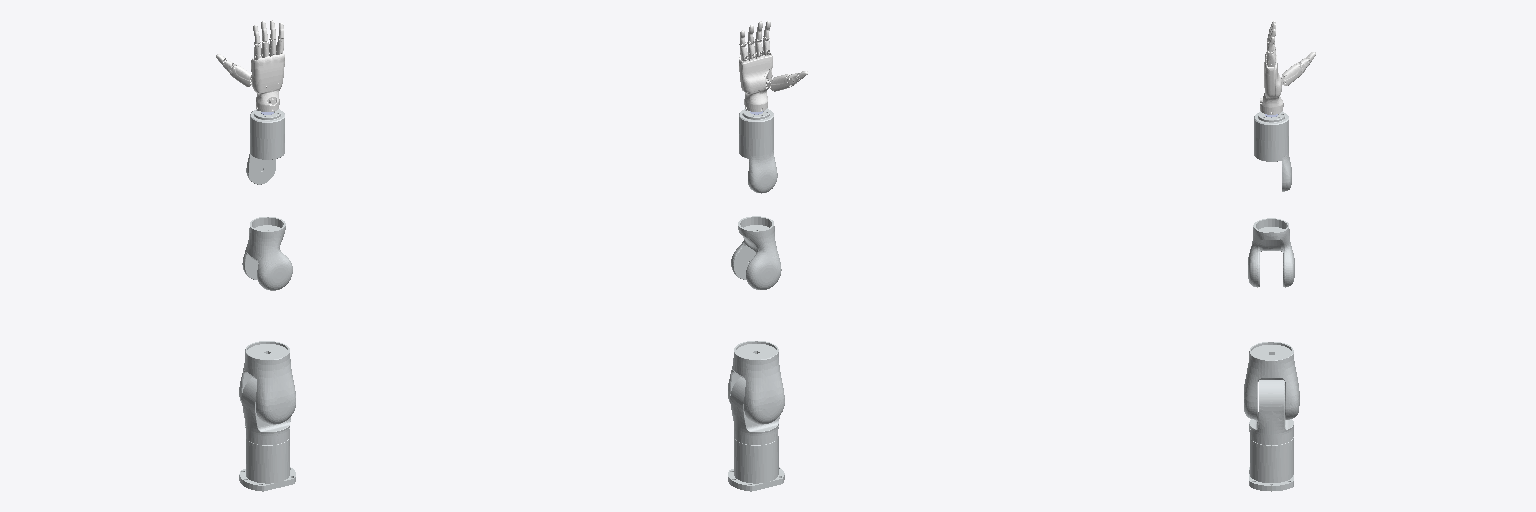
--- Facts derived from the render (not from the file) ---
The picture shows the robot from 3 angles, left to right: view 1: azimuth 30°, elevation 25°; view 2: azimuth 210°, elevation 25°; view 3: azimuth 270°, elevation 25°; orthographic projection.
Model urdf with 21 links and 20 joints (18 revolute, 2 fixed), rooted at base_link_jaka_right, posed all joints at 0 but 1 set to mid-range because 0 is outside their limits (R_thumb_MCP_joint1 = 0.85).
Links seen in each view (by area): view 1: r2_right, r4_right, r6_right, base_link_jaka_right, R_hand_base_link, r1_right; view 2: r2_right, r4_right, r6_right, base_link_jaka_right, R_hand_base_link, r1_right; view 3: r2_right, r1_right, base_link_jaka_right, r4_right, r6_right, R_hand_base_link.
Boxes of the visible links, box(x1,y1,x2,y2) form: r2_right: box(239, 341, 295, 424); r4_right: box(242, 217, 292, 290); r6_right: box(246, 109, 284, 184); base_link_jaka_right: box(239, 438, 295, 491); R_hand_base_link: box(251, 54, 284, 111); r1_right: box(242, 377, 290, 444); r2_right: box(728, 341, 784, 424); r4_right: box(731, 216, 781, 289); r6_right: box(739, 108, 777, 193); base_link_jaka_right: box(728, 436, 784, 491); R_hand_base_link: box(739, 50, 772, 111); r1_right: box(730, 377, 779, 444); r2_right: box(1244, 342, 1299, 419); r1_right: box(1249, 380, 1293, 445); base_link_jaka_right: box(1249, 437, 1293, 491); r4_right: box(1248, 218, 1294, 287); r6_right: box(1254, 111, 1291, 191); R_hand_base_link: box(1260, 52, 1283, 114).
Size in the robot's own frame: 0.1455 by 0.1679 by 1.16 metres.
19 mesh visuals loaded from 21 distinct referenced files (19 binary STL); not drawn: 2 (reference not matched to a file when rendering).

robot.urdf — urdf:
<?xml version="1.0" encoding="utf-8"?>
<!-- This URDF was automatically created by SolidWorks to URDF Exporter! Originally created by Stephen Brawner ([email redacted]) 
     Commit Version: 1.6.0-4-g7f85cfe  Build Version: 1.6.7995.38578
     For more information, please see http://wiki.ros.org/sw_urdf_exporter -->
     

    
<robot
  name="urdf">
  <link
    name="base_link_jaka_right">
    <inertial>
      <origin
        xyz="-9.29811783123569E-15 -2.55351295663786E-14 0.0527140176534378"
        rpy="0 0 0" />
      <mass
        value="2.6517937627355" />
      <inertia
        ixx="0.00459869882416778"
        ixy="1.85752629607686E-17"
        ixz="-2.28219532296407E-15"
        iyy="0.00475862705157852"
        iyz="2.22748606625393E-15"
        izz="0.00370665473180569" />
    </inertial>
    <visual>
      <origin
        xyz="0 0 0"
        rpy="0 0 0" />
      <geometry>
        <mesh
          filename="package://robot_description/meshes/base_link.STL" />
      </geometry>
      <material
        name="">
        <color
          rgba="0.898039215686275 0.917647058823529 0.929411764705882 1" />
      </material>
    </visual>
    <collision>
      <origin
        xyz="0 0 0"
        rpy="0 0 0" />
      <geometry>
        <mesh
          filename="package://robot_description/meshes/base_link.STL" />
      </geometry>
    </collision>
  </link>
  <link
    name="r1_right">
    <inertial>
      <origin
        xyz="-2.45882333965719E-06 -3.29465040194155E-07 0.164278748235391"
        rpy="0 0 0" />
      <mass
        value="1.49114512916891" />
      <inertia
        ixx="0.00305995014021982"
        ixy="1.23264704419555E-07"
        ixz="4.84189826771435E-08"
        iyy="0.00378498860937016"
        iyz="-4.00260806320922E-08"
        izz="0.00212611420638678" />
    </inertial>
    <visual>
      <origin
        xyz="0 0 0"
        rpy="0 0 0" />
      <geometry>
        <mesh
          filename="package://robot_description/meshes/r1.STL" />
      </geometry>
      <material
        name="">
        <color
          rgba="0.898039215686275 0.917647058823529 0.929411764705882 1" />
      </material>
    </visual>
    <collision>
      <origin
        xyz="0 0 0"
        rpy="0 0 0" />
      <geometry>
        <mesh
          filename="package://robot_description/meshes/r1.STL" />
      </geometry>
    </collision>
  </link>
  <joint
    name="r-j1_right"
    type="revolute">
    <origin
      xyz="0 0 0"
      rpy="0 0 0" />
    <parent
      link="base_link_jaka_right" />
    <child
      link="r1_right" />
    <axis
      xyz="0 0 1" />
    <limit
      lower="-6.28"
      upper="6.28"
      effort="0"
      velocity="0" />
  </joint>
  <link
    name="r2_right">
    <inertial>
      <origin
        xyz="-1.73912983857383E-05 -0.045302289186851 0.000758985811080221"
        rpy="0 0 0" />
      <mass
        value="2.7030708005657" />
      <inertia
        ixx="0.00985116104091457"
        ixy="-3.38766701447005E-06"
        ixz="-5.61641753701589E-10"
        iyy="0.00588775168674872"
        iyz="-9.3081179688794E-05"
        izz="0.00748059216406972" />
    </inertial>
    <visual>
      <origin
        xyz="0 0 0"
        rpy="0 0 0" />
      <geometry>
        <mesh
          filename="package://robot_description/meshes/r2.STL" />
      </geometry>
      <material
        name="">
        <color
          rgba="0.898039215686275 0.917647058823529 0.929411764705882 1" />
      </material>
    </visual>
    <collision>
      <origin
        xyz="0 0 0"
        rpy="0 0 0" />
      <geometry>
        <mesh
          filename="package://robot_description/meshes/r2.STL" />
      </geometry>
    </collision>
  </link>
  <joint
    name="r-j2_right"
    type="revolute">
    <origin
      xyz="0 0 0.2075"
      rpy="-1.5708 0 3.1416" />
    <parent
      link="r1_right" />
    <child
      link="r2_right" />
    <axis
      xyz="0 0 1" />
    <limit
      lower="-1.8325"
      upper="1.8325"
      effort="0"
      velocity="0" />
  </joint>
  <link
    name="r3_right">
    <inertial>
      <origin
        xyz="0.00781892928429065 0.000443169688911726 0.236718911077405"
        rpy="0 0 0" />
      <mass
        value="3.54660276963343" />
      <inertia
        ixx="0.0185269491138635"
        ixy="1.22803049215312E-06"
        ixz="-0.000120248225114125"
        iyy="0.0186931698724925"
        iyz="1.68848263469426E-05"
        izz="0.0037520600753781" />
    </inertial>
    <visual>
      <origin
        xyz="0 0 0"
        rpy="0 0 0" />
      <geometry>
        <mesh
          filename="package://robot_description/meshes/r3.STL" />
      </geometry>
      <material
        name="">
        <color
          rgba="0.898039215686275 0.917647058823529 0.929411764705882 1" />
      </material>
    </visual>
    <collision>
      <origin
        xyz="0 0 0"
        rpy="0 0 0" />
      <geometry>
        <mesh
          filename="package://robot_description/meshes/r3.STL" />
      </geometry>
    </collision>
  </link>
  <joint
    name="r-j3_right"
    type="revolute">
    <origin
      xyz="0 0 0"
      rpy="1.5708 0 0" />
    <parent
      link="r2_right" />
    <child
      link="r3_right" />
    <axis
      xyz="0 0 1" />
    <limit
      lower="-6.28"
      upper="6.28"
      effort="0"
      velocity="0" />
  </joint>
  <link
    name="r4_right">
    <inertial>
      <origin
        xyz="0.00464859992891739 -0.0316068183766519 0.000433526857347266"
        rpy="0 0 0" />
      <mass
        value="1.47407492251049" />
      <inertia
        ixx="0.00379436067438255"
        ixy="0.00016058091609879"
        ixz="2.4669928356952E-07"
        iyy="0.00225645571243247"
        iyz="7.77456261983296E-06"
        izz="0.00281220267725995" />
    </inertial>
    <visual>
      <origin
        xyz="0 0 0"
        rpy="0 0 0" />
      <geometry>
        <mesh
          filename="package://robot_description/meshes/r4.STL" />
      </geometry>
      <material
        name="">
        <color
          rgba="0.898039215686275 0.917647058823529 0.929411764705882 1" />
      </material>
    </visual>
    <collision>
      <origin
        xyz="0 0 0"
        rpy="0 0 0" />
      <geometry>
        <mesh
          filename="package://robot_description/meshes/r4.STL" />
      </geometry>
    </collision>
  </link>
  <joint
    name="r-j4_right"
    type="revolute">
    <origin
      xyz="0.00040027 0 0.33028"
      rpy="-1.5708 0 0" />
    <parent
      link="r3_right" />
    <child
      link="r4_right" />
    <axis
      xyz="0 0 1" />
    <limit
      lower="-2.5307"
      upper="0.5235"
      effort="0"
      velocity="0" />
  </joint>
  <link
    name="r5_right">
    <inertial>
      <origin
        xyz="-2.41117716243133E-06 0.00407933088083307 0.183521132961616"
        rpy="0 0 0" />
      <mass
        value="2.28121145937994" />
      <inertia
        ixx="0.00549376131725593"
        ixy="1.63293925681376E-07"
        ixz="1.60661986226837E-07"
        iyy="0.00558037684698877"
        iyz="-0.000384345841898028"
        izz="0.00195950697428381" />
    </inertial>
    <visual>
      <origin
        xyz="0 0 0"
        rpy="0 0 0" />
      <geometry>
        <mesh
          filename="package://robot_description/meshes/r5.STL" />
      </geometry>
      <material
        name="">
        <color
          rgba="0.898039215686275 0.917647058823529 0.929411764705882 1" />
      </material>
    </visual>
    <collision>
      <origin
        xyz="0 0 0"
        rpy="0 0 0" />
      <geometry>
        <mesh
          filename="package://robot_description/meshes/r5.STL" />
      </geometry>
    </collision>
  </link>
  <joint
    name="r-j5_right"
    type="revolute">
    <origin
      xyz="0 0 0"
      rpy="1.5708 0 0" />
    <parent
      link="r4_right" />
    <child
      link="r5_right" />
    <axis
      xyz="0 0 1" />
    <limit
      lower="-6.28"
      upper="6.28"
      effort="0"
      velocity="0" />
  </joint>
  <link
    name="r6_right">
    <inertial>
      <origin
        xyz="-1.79742565914465E-07 -0.0856690489718185 0.00568955612692162"
        rpy="0 0 0" />
      <mass
        value="1.71844746686076" />
      <inertia
        ixx="0.00430059794688191"
        ixy="4.61984898627264E-08"
        ixz="1.07416214264555E-08"
        iyy="0.00153199579327497"
        iyz="-0.000759767652732725"
        izz="0.0041130216134936" />
    </inertial>
    <visual>
      <origin
        xyz="0 0 0"
        rpy="0 0 0" />
      <geometry>
        <mesh
          filename="package://robot_description/meshes/r6.STL" />
      </geometry>
      <material
        name="">
        <color
          rgba="0.898039215686275 0.917647058823529 0.929411764705882 1" />
      </material>
    </visual>
    <collision>
      <origin
        xyz="0 0 0"
        rpy="0 0 0" />
      <geometry>
        <mesh
          filename="package://robot_description/meshes/r6.STL" />
      </geometry>
    </collision>
  </link>
  <joint
    name="r-j6_right"
    type="revolute">
    <origin
      xyz="0 0 0.23494"
      rpy="-1.5708 0 -3.1416" />
    <parent
      link="r5_right" />
    <child
      link="r6_right" />
    <axis
      xyz="0 0 1" />
    <limit
      lower="-1.5707"
      upper="1.5707"
      effort="0"
      velocity="0" />
  </joint>
  <link
    name="rt_right">
    <inertial>
      <origin
        xyz="-2.77555756156289E-17 2.77555756156289E-17 -0.00099999999999989"
        rpy="0 0 0" />
      <mass
        value="0.00155862265526226" />
      <inertia
        ixx="9.71784989903361E-08"
        ixy="-8.44451673424977E-30"
        ixz="-2.13144338371386E-24"
        iyy="9.71784989903361E-08"
        iyz="1.94259206721209E-24"
        izz="1.93317916210497E-07" />
    </inertial>
    <visual>
      <origin
        xyz="0 0 0"
        rpy="0 0 0" />
      <geometry>
        <mesh
          filename="package://robot_description/meshes/rt.STL" />
      </geometry>
      <material
        name="">
        <color
          rgba="0.792156862745098 0.819607843137255 0.933333333333333 1" />
      </material>
    </visual>
    <collision>
      <origin
        xyz="0 0 0"
        rpy="0 0 0" />
      <geometry>
        <mesh
          filename="package://robot_description/meshes/rt.STL" />
      </geometry>
    </collision>
  </link>
  <joint
    name="r_t_right"
    type="fixed">
    <origin
      xyz="0 -0.1559 0"
      rpy="1.5708 0 0" />
    <parent
      link="r6_right" />
    <child
      link="rt_right" />
    <axis
      xyz="0 0 0" />
  </joint>
  
  
  
  
  
  <joint name="fixed_right" type="fixed">
  <origin
   xyz="0  0  0.011"
   rpy="0 0 0" />
  <parent link="rt_right"/>
  <child link="R_hand_base_link"/>
  </joint>
  
 
 <link
    name="R_hand_base_link">
    <inertial>
      <origin
        xyz="0.0019598 0.0025264 0.066047"
        rpy="0 0 0" />
      <mass
        value="0.14143" />
      <inertia
        ixx="7.6663E-05"
        ixy="-1.7709E-06"
        ixz="1.655E-06"
        iyy="0.00012281"
        iyz="2.1712E-06"
        izz="8.3831E-05" />
    </inertial>
    <visual>
      <origin
        xyz="0 0 0"
        rpy="0 0 0" />
      <geometry>
        <mesh
          filename="package://robot_description/meshes/R_hand_base_link.STL" />
      </geometry>
      <material
        name="">
        <color
          rgba="1 1 1 1" />
      </material>
    </visual>
    <collision>
      <origin
        xyz="0 0 0"
        rpy="0 0 0" />
      <geometry>
        <mesh
          filename="package://robot_description/meshes/R_hand_base_link.STL" />
      </geometry>
    </collision>
  </link>
  <link
    name="R_thumb_proximal_base">
    <inertial>
      <origin
        xyz="-0.0048934 0.00019129 -0.00757"
        rpy="0 0 0" />
      <mass
        value="0.0018869" />
      <inertia
        ixx="5.4253E-08"
        ixy="1.068E-08"
        ixz="4.7248E-09"
        iyy="8.3068E-08"
        iyz="-1.1631E-09"
        izz="6.7433E-08" />
    </inertial>
    <visual>
      <origin
        xyz="0 0 0"
        rpy="0 0 0" />
      <geometry>
        <mesh
          filename="package://robot_description/meshes/R_thumb_proximal_base.STL" />
      </geometry>
      <material
        name="">
        <color
          rgba="1 1 1 1" />
      </material>
    </visual>
    <collision>
      <origin
        xyz="0 0 0"
        rpy="0 0 0" />
      <geometry>
        <mesh
          filename="package://robot_description/meshes/R_thumb_proximal_base.STL" />
      </geometry>
    </collision>
  </link>
  <joint
    name="R_thumb_MCP_joint1"
    type="revolute">
    <origin
      xyz="-0.02045 0.01696 0.0691"
      rpy="0 0 0" />
    <parent
      link="R_hand_base_link" />
    <child
      link="R_thumb_proximal_base" />
    <axis
      xyz="0 0 -1" />
    <limit
      lower="0.2"
      upper="1.5"
      effort="50"
      velocity="1" />
  </joint>
  <link
    name="R_thumb_proximal">
    <inertial>
      <origin
        xyz="-0.010364 0.023175 -0.0080386"
        rpy="0 0 0" />
      <mass
        value="0.0066075" />
      <inertia
        ixx="1.8999E-06"
        ixy="7.473E-07"
        ixz="1.107E-09"
        iyy="1.4039E-06"
        iyz="7.7482E-10"
        izz="2.786E-06" />
    </inertial>
    <visual>
      <origin
        xyz="0 0 0"
        rpy="0 0 0" />
      <geometry>
        <mesh
          filename="package://robot_description/meshes/R_thumb_proximal.STL" />
      </geometry>
      <material
        name="">
        <color
          rgba="1 1 1 1" />
      </material>
    </visual>
    <collision>
      <origin
        xyz="0 0 0"
        rpy="0 0 0" />
      <geometry>
        <mesh
          filename="package://robot_description/meshes/R_thumb_proximal.STL" />
      </geometry>
    </collision>
  </link>
  <joint
    name="R_thumb_MCP_joint2"
    type="revolute">
    <origin
      xyz="-0.010374 0.0094148 -0.00925"
      rpy="-1.4416 1.5708 0" />
    <parent
      link="R_thumb_proximal_base" />
    <child
      link="R_thumb_proximal" />
    <axis
      xyz="0 0 1" />
    <limit
      lower="0"
      upper="0.7"
      effort="50"
      velocity="1"  />
  </joint>
  <link
    name="R_thumb_intermediate">
    <inertial>
      <origin
        xyz="0.0022214 0.0094341 -0.0071997"
        rpy="0 0 0" />
      <mass
        value="0.0037847" />
      <inertia
        ixx="3.364E-07"
        ixy="1.0067E-07"
        ixz="-1.7217E-12"
        iyy="3.5734E-07"
        iyz="-4.3768E-12"
        izz="4.6531E-07" />
    </inertial>
    <visual>
      <origin
        xyz="0 0 0"
        rpy="0 0 0" />
      <geometry>
        <mesh
          filename="package://robot_description/meshes/R_thumb_intermediate.STL" />
      </geometry>
      <material
        name="">
        <color
          rgba="1 1 1 1" />
      </material>
    </visual>
    <collision>
      <origin
        xyz="0 0 0"
        rpy="0 0 0" />
      <geometry>
        <mesh
          filename="package://robot_description/meshes/R_thumb_intermediate.STL" />
      </geometry>
    </collision>
  </link>
  <joint
    name="R_thumb_PIP_joint"
    type="revolute">
    <origin
      xyz="-0.029639 0.047514 -0.0008"
      rpy="0 0 0" />
    <parent
      link="R_thumb_proximal" />
    <child
      link="R_thumb_intermediate" />
    <axis
      xyz="0 0 1" />
    <limit
      lower="0"
      upper="1"
      effort="50"
      velocity="1"  />
    <mimic 
        joint="R_thumb_MCP_joint2"
        multiplier="1.6"
        offset="0" />
    
    
  </joint>
  <link
    name="R_thumb_distal">
    <inertial>
      <origin
        xyz="-0.0044398 0.0095447 -0.0060033"
        rpy="0 0 0" />
      <mass
        value="0.0033441" />
      <inertia
        ixx="1.4669E-07"
        ixy="5.6223E-08"
        ixz="1.1758E-10"
        iyy="1.3016E-07"
        iyz="-9.9339E-11"
        izz="2.0026E-07" />
    </inertial>
    <visual>
      <origin
        xyz="0 0 0"
        rpy="0 0 0" />
      <geometry>
        <mesh
          filename="package://robot_description/meshes/R_thumb_distal.STL" />
      </geometry>
      <material
        name="">
        <color
          rgba="1 1 1 1" />
      </material>
    </visual>
    <collision>
      <origin
        xyz="0 0 0"
        rpy="0 0 0" />
      <geometry>
        <mesh
          filename="package://robot_description/meshes/R_thumb_distal.STL" />
      </geometry>
    </collision>
  </link>
  <joint
    name="R_thumb_DIP_joint"
    type="revolute">
    <origin
      xyz="-0.0088725 0.020843 -0.0012"
      rpy="0 0 0" />
    <parent
      link="R_thumb_intermediate" />
    <child
      link="R_thumb_distal" />
    <axis
      xyz="0 0 1" />
    <limit
      lower="0"
      upper="0.7"
      effort="50"
      velocity="1"  />
    <mimic 
        joint="R_thumb_MCP_joint2"
        multiplier="1.0"
        offset="0" />
    
    
  </joint>
  <link
    name="R_index_proximal">
    <inertial>
      <origin
        xyz="0.011932 -0.0013134 -0.0060001"
        rpy="0 0 0" />
      <mass
        value="0.0042403" />
      <inertia
        ixx="2.1172E-07"
        ixy="1.9079E-08"
        ixz="-5.2034E-12"
        iyy="6.6206E-07"
        iyz="-1.7999E-12"
        izz="6.9398E-07" />
    </inertial>
    <visual>
      <origin
        xyz="0 0 0"
        rpy="0 0 0" />
      <geometry>
        <mesh
          filename="package://robot_description/meshes/R_index_proximal.STL" />
      </geometry>
      <material
        name="">
        <color
          rgba="1 1 1 1" />
      </material>
    </visual>
    <collision>
      <origin
        xyz="0 0 0"
        rpy="0 0 0" />
      <geometry>
        <mesh
          filename="package://robot_description/meshes/R_index_proximal.STL" />
      </geometry>
    </collision>
  </link>
  <joint
    name="R_index_MCP_joint"
    type="revolute">
    <origin
      xyz="-0.032268 -0.00028533 0.13653"
      rpy="3.1416 -1.5359 3.1416" />
    <parent
      link="R_hand_base_link" />
    <child
      link="R_index_proximal" />
    <axis
      xyz="0 0 1" />
    <limit
      lower="0"
      upper="1.7"
      effort="50"
      velocity="1"  />
  </joint>
  <link
    name="R_index_distal">
    <inertial>
      <origin
        xyz="0.019667 -0.00092222 -0.005"
        rpy="0 0 0" />
      <mass
        value="0.0045683" />
      <inertia
        ixx="1.073E-07"
        ixy="-1.2255E-07"
        ixz="1.1074E-12"
        iyy="7.4989E-07"
        iyz="4.6654E-13"
        izz="7.8179E-07" />
    </inertial>
    <visual>
      <origin
        xyz="0 0 0"
        rpy="0 0 0" />
      <geometry>
        <mesh
          filename="package://robot_description/meshes/R_index_distal.STL" />
      </geometry>
      <material
        name="">
        <color
          rgba="1 1 1 1" />
      </material>
    </visual>
    <collision>
      <origin
        xyz="0 0 0"
        rpy="0 0 0" />
      <geometry>
        <mesh
          filename="package://robot_description/meshes/R_index_distal.STL" />
      </geometry>
    </collision>
  </link>
  <joint
    name="R_index_DIP_joint"
    type="revolute">
    <origin
      xyz="0.032044 0.0023789 -0.001"
      rpy="0 0 0" />
    <parent
      link="R_index_proximal" />
    <child
      link="R_index_distal" />
    <axis
      xyz="0 0 1" />
    <limit
      lower="0"
      upper="1.6"
      effort="50"
      velocity="1"  />
    <mimic 
        joint="R_index_MCP_joint"
        multiplier="1"
        offset="0" />
    
    
  </joint>
  <link
    name="R_middle_proximal">
    <inertial>
      <origin
        xyz="0.011922 -0.0014058 -0.0060001"
        rpy="0 0 0" />
      <mass
        value="0.0042403" />
      <inertia
        ixx="2.1204E-07"
        ixy="2.2563E-08"
        ixz="-6.7713E-12"
        iyy="6.6173E-07"
        iyz="-1.6683E-12"
        izz="6.9397E-07" />
    </inertial>
    <visual>
      <origin
        xyz="0 0 0"
        rpy="0 0 0" />
      <geometry>
        <mesh
          filename="package://robot_description/meshes/R_middle_proximal.STL" />
      </geometry>
      <material
        name="">
        <color
          rgba="1 1 1 1" />
      </material>
    </visual>
    <collision>
      <origin
        xyz="0 0 0"
        rpy="0 0 0" />
      <geometry>
        <mesh
          filename="package://robot_description/meshes/R_middle_proximal.STL" />
      </geometry>
    </collision>
  </link>
  <joint
    name="R_middle_MCP_joint"
    type="revolute">
    <origin
      xyz="-0.01295 -0.00028533 0.1371"
      rpy="0 -1.5708 0" />
    <parent
      link="R_hand_base_link" />
    <child
      link="R_middle_proximal" />
    <axis
      xyz="0 0 1" />
    <limit
      lower="0"
      upper="1.7"
      effort="50"
      velocity="1"  />
  </joint>
  <link
    name="R_middle_distal">
    <inertial>
      <origin
        xyz="0.020884 -0.00017171 -0.005"
        rpy="0 0 0" />
      <mass
        value="0.0050396" />
      <inertia
        ixx="1.3152E-07"
        ixy="-1.8376E-07"
        ixz="5.9512E-12"
        iyy="9.3317E-07"
        iyz="3.0525E-12"
        izz="9.8384E-07" />
    </inertial>
    <visual>
      <origin
        xyz="0 0 0"
        rpy="0 0 0" />
      <geometry>
        <mesh
          filename="package://robot_description/meshes/R_middle_distal.STL" />
      </geometry>
      <material
        name="">
        <color
          rgba="1 1 1 1" />
      </material>
    </visual>
    <collision>
      <origin
        xyz="0 0 0"
        rpy="0 0 0" />
      <geometry>
        <mesh
          filename="package://robot_description/meshes/R_middle_distal.STL" />
      </geometry>
    </collision>
  </link>
  <joint
    name="R_middle_DIP_joint"
    type="revolute">
    <origin
      xyz="0.032062 0.0021307 -0.001"
      rpy="0 0 0" />
    <parent
      link="R_middle_proximal" />
    <child
      link="R_middle_distal" />
    <axis
      xyz="0 0 1" />
    <limit
      lower="0"
      upper="1.6"
      effort="50"
      velocity="1"  />
    <mimic 
        joint="R_middle_MCP_joint"
        multiplier="1"
        offset="0" />
    
    
  </joint>
  <link
    name="R_ring_proximal">
    <inertial>
      <origin
        xyz="0.011949 -0.0011513 -0.0060001"
        rpy="0 0 0" />
      <mass
        value="0.0042403" />
      <inertia
        ixx="2.1128E-07"
        ixy="1.2962E-08"
        ixz="-6.6232E-12"
        iyy="6.625E-07"
        iyz="-1.9136E-12"
        izz="6.9398E-07" />
    </inertial>
    <visual>
      <origin
        xyz="0 0 0"
        rpy="0 0 0" />
      <geometry>
        <mesh
          filename="package://robot_description/meshes/R_ring_proximal.STL" />
      </geometry>
      <material
        name="">
        <color
          rgba="1 1 1 1" />
      </material>
    </visual>
    <collision>
      <origin
        xyz="0 0 0"
        rpy="0 0 0" />
      <geometry>
        <mesh
          filename="package://robot_description/meshes/R_ring_proximal.STL" />
      </geometry>
    </collision>
  </link>
  <joint
    name="R_ring_MCP_joint"
    type="revolute">
    <origin
      xyz="0.0062872 -0.00028533 0.13691"
      rpy="0 -1.5184 0" />
    <parent
      link="R_hand_base_link" />
    <child
      link="R_ring_proximal" />
    <axis
      xyz="0 0 1" />
    <limit
      lower="0"
      upper="1.7"
      effort="50"
      velocity="1"  />
  </joint>
  <link
    name="R_ring_distal">
    <inertial>
      <origin
        xyz="0.01967 -0.0008418 -0.005"
        rpy="0 0 0" />
      <mass
        value="0.0045683" />
      <inertia
        ixx="1.0832E-07"
        ixy="-1.2518E-07"
        ixz="5.604E-13"
        iyy="7.4885E-07"
        iyz="6.9377E-13"
        izz="7.8177E-07" />
    </inertial>
    <visual>
      <origin
        xyz="0 0 0"
        rpy="0 0 0" />
      <geometry>
        <mesh
          filename="package://robot_description/meshes/R_ring_distal.STL" />
      </geometry>
      <material
        name="">
        <color
          rgba="1 1 1 1" />
      </material>
    </visual>
    <collision>
      <origin
        xyz="0 0 0"
        rpy="0 0 0" />
      <geometry>
        <mesh
          filename="package://robot_description/meshes/R_ring_distal.STL" />
      </geometry>
    </collision>
  </link>
  <joint
    name="R_ring_DIP_joint"
    type="revolute">
    <origin
      xyz="0.032009 0.0028136 -0.001"
      rpy="0 0 0" />
    <parent
      link="R_ring_proximal" />
    <child
      link="R_ring_distal" />
    <axis
      xyz="0 0 1" />
    <limit
      lower="0"
      upper="1.6"
      effort="50"
      velocity="1"  />
    <mimic 
      joint="R_ring_MCP_joint"
      multiplier="1"
      offset="0" />
    
    
    
  </joint>
  <link
    name="R_pinky_proximal">
    <inertial>
      <origin
        xyz="0.011913 -0.0014791 -0.0060002"
        rpy="0 0 0" />
      <mass
        value="0.0042403" />
      <inertia
        ixx="2.1233E-07"
        ixy="2.5328E-08"
        ixz="-6.7743E-12"
        iyy="6.6144E-07"
        iyz="-1.3495E-12"
        izz="6.9397E-07" />
    </inertial>
    <visual>
      <origin
        xyz="0 0 0"
        rpy="0 0 0" />
      <geometry>
        <mesh
          filename="package://robot_description/meshes/R_pinky_proximal.STL" />
      </geometry>
      <material
        name="">
        <color
          rgba="1 1 1 1" />
      </material>
    </visual>
    <collision>
      <origin
        xyz="0 0 0"
        rpy="0 0 0" />
      <geometry>
        <mesh
          filename="package://robot_description/meshes/R_pinky_proximal.STL" />
      </geometry>
    </collision>
  </link>
  <joint
    name="R_pinky_MCP_joint"
    type="revolute">
    <origin
      xyz="0.025488 -0.00028533 0.13571"
      rpy="0 -1.4661 0" />
    <parent
      link="R_hand_base_link" />
    <child
      link="R_pinky_proximal" />
    <axis
      xyz="0 0 1" />
    <limit
      lower="0"
      upper="1.7"
      effort="50"
      velocity="1"  />
  </joint>
  <link
    name="R_pinky_distal">
    <inertial>
      <origin
        xyz="0.016308 -0.0016415 -0.0050031"
        rpy="0 0 0" />
      <mass
        value="0.0035996" />
      <inertia
        ixx="7.5453E-08"
        ixy="-6.0072E-08"
        ixz="6.0332E-11"
        iyy="4.3392E-07"
        iyz="-3.4313E-11"
        izz="4.4867E-07" />
    </inertial>
    <visual>
      <origin
        xyz="0 0 0"
        rpy="0 0 0" />
      <geometry>
        <mesh
          filename="package://robot_description/meshes/R_pinky_distal.STL" />
      </geometry>
      <material
        name="">
        <color
          rgba="1 1 1 1" />
      </material>
    </visual>
    <collision>
      <origin
        xyz="0 0 0"
        rpy="0 0 0" />
      <geometry>
        <mesh
          filename="package://robot_description/meshes/R_pinky_distal.STL" />
      </geometry>
    </collision>
  </link>
  <joint
    name="R_pinky_DIP_joint"
    type="revolute">
    <origin
      xyz="0.032074 0.0019335 -0.001"
      rpy="0 0 0" />
    <parent
      link="R_pinky_proximal" />
    <child
      link="R_pinky_distal" />
    <axis
      xyz="0 0 1" />
    <limit
      lower="0"
      upper="1.6"
      effort="50"
      velocity="1"  />
    <mimic 
        joint="R_pinky_MCP_joint"
        multiplier="1"
        offset="0" />
  </joint>
  
  
  
  
</robot>
